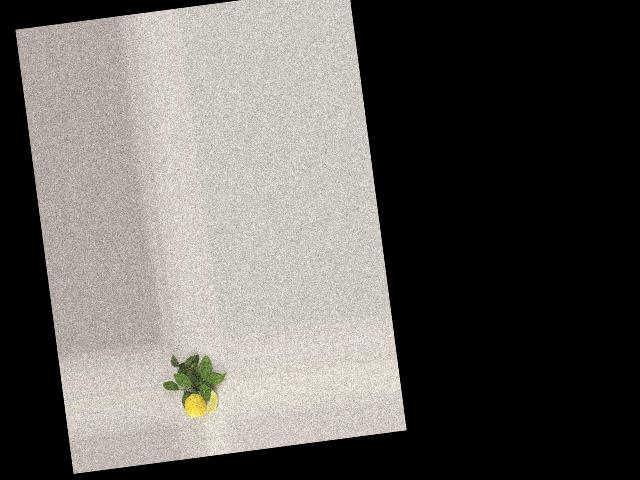lemon: (182, 390, 205, 418)
